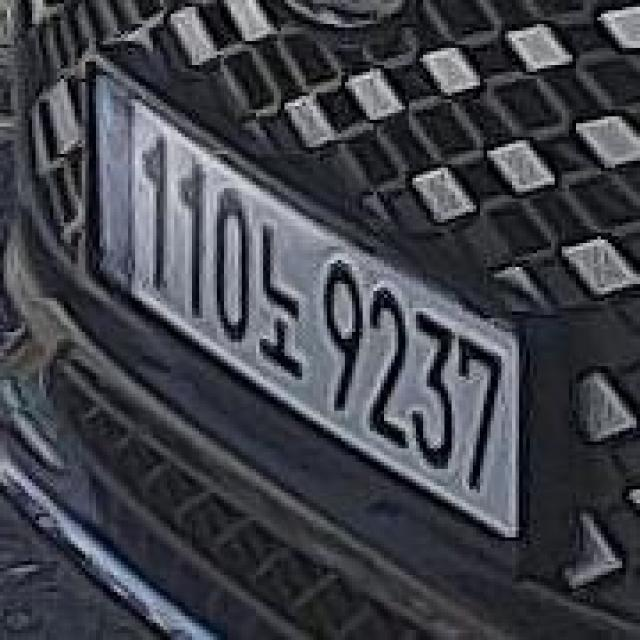illegal_plate: (80, 87, 536, 542)
